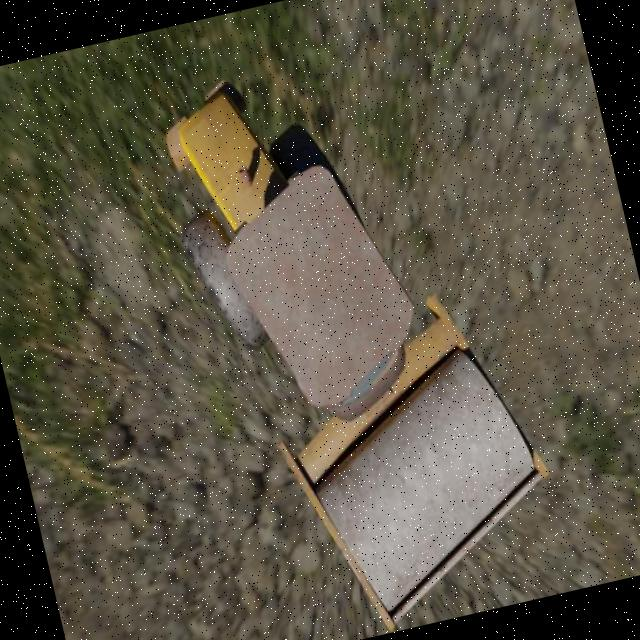Roller: (145, 27, 574, 640)
